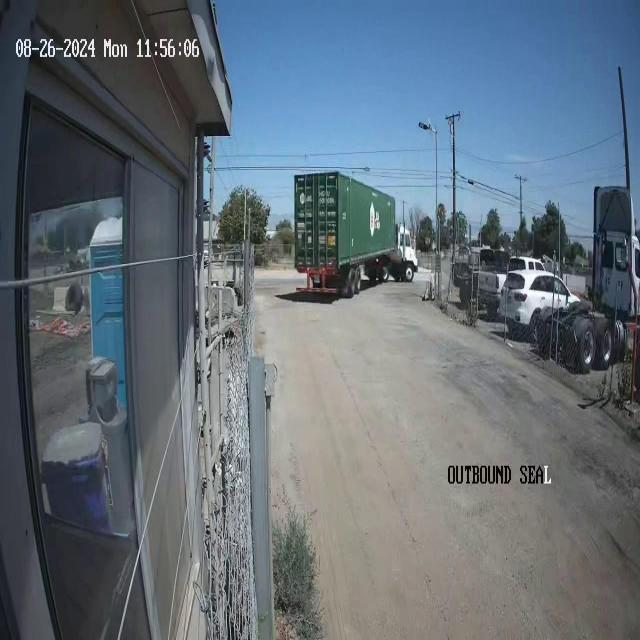TRUCK_OUT: (293, 170, 397, 296)
